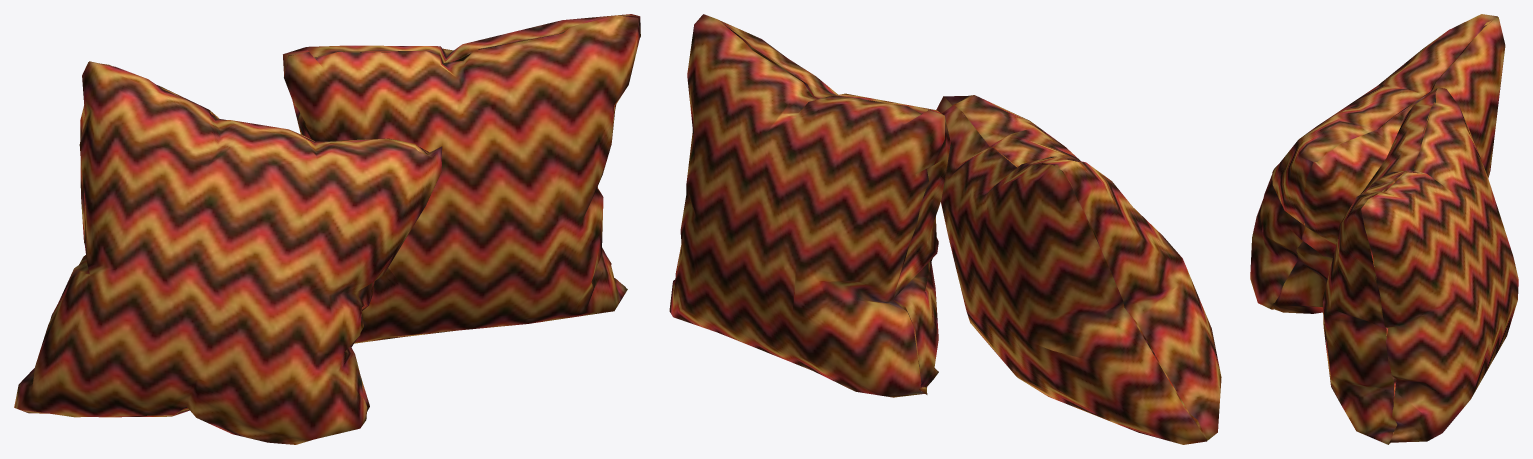
Rendered from throw_pillows_01.glb.
The picture shows the model from 3 angles, left to right: view 1: azimuth 30°, elevation 25°; view 2: azimuth 150°, elevation 25°; view 3: azimuth 270°, elevation 25°; orthographic projection. The views are drawn at different scales.
Parts seen in each view (by area): view 1: throw_pillows_01_pillow02; view 2: throw_pillows_01_pillow02; view 3: throw_pillows_01_pillow02.
Part boxes in pixels (box(x1,y1,x2,y2)): throw_pillows_01_pillow02: box(14, 14, 640, 444); throw_pillows_01_pillow02: box(669, 14, 1221, 444); throw_pillows_01_pillow02: box(1250, 14, 1518, 444).
Bounding box in the file's own units: 0.9353 × 0.4541 × 0.4512.
Materials: 1 (1 with a texture image).
